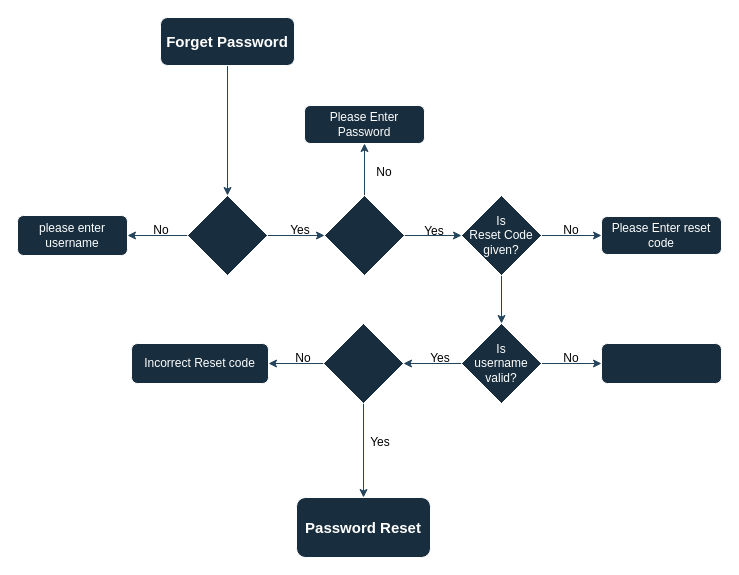
Some shapes in this 739 by 575 pixel diagram are drawn without their labels. The centre of each missing label's shape, as x and y in pixels:
"Invalid username" goes at (661,363).
"Is password given?" goes at (364,235).
"is Reset code valid?" goes at (363,363).
"Is username give?" goes at (227,235).
